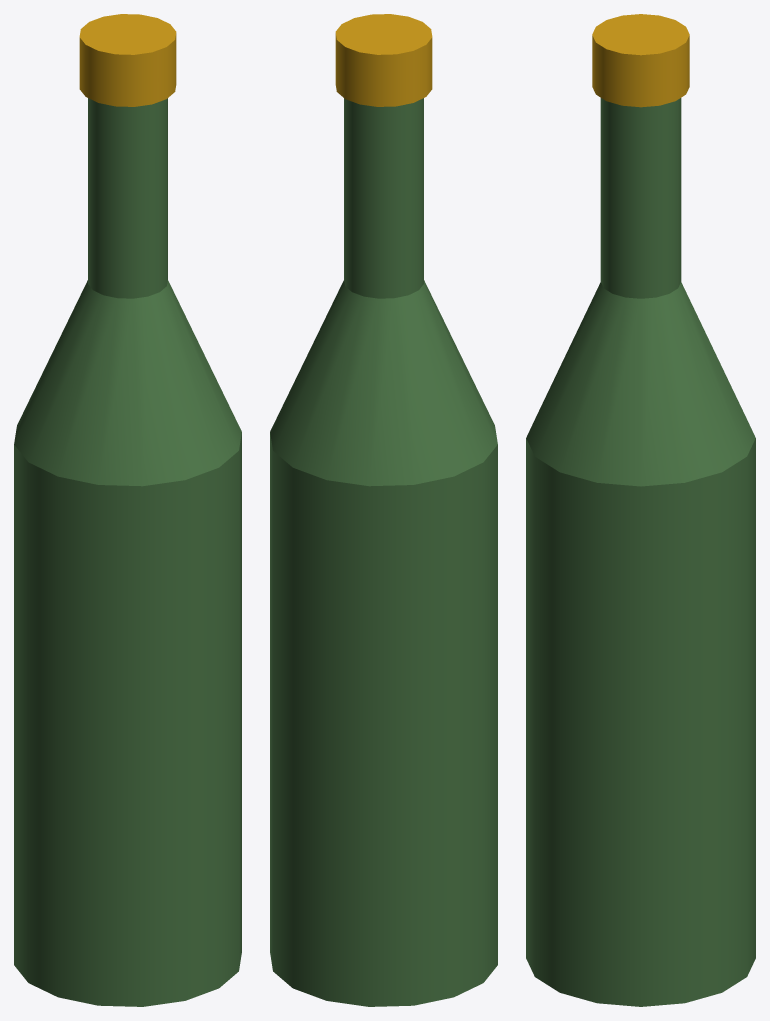
Rendered from bottle.glb.
3 views of the same model, side by side, from view 1: azimuth 30°, elevation 25°; view 2: azimuth 150°, elevation 25°; view 3: azimuth 270°, elevation 25° (orthographic).
Parts seen in each view (by area): view 1: cyl (×4); view 2: cyl (×4); view 3: cyl (×4).
Boxes of the visible parts, x1,y1,x2,y2 form: cyl (×4): (14, 14, 241, 1006); cyl (×4): (270, 14, 497, 1006); cyl (×4): (526, 14, 755, 1006).
Size of the model in its own units: 0.08 by 0.355 by 0.08.
